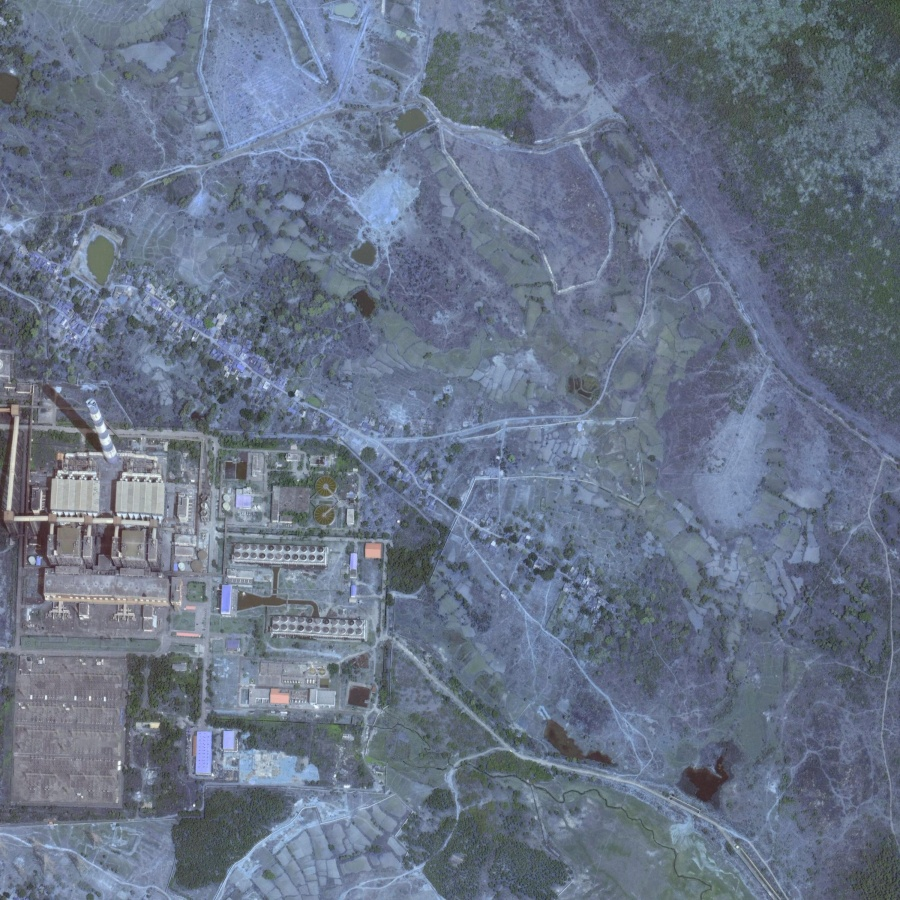PowerPlant: (17, 359, 171, 492)
